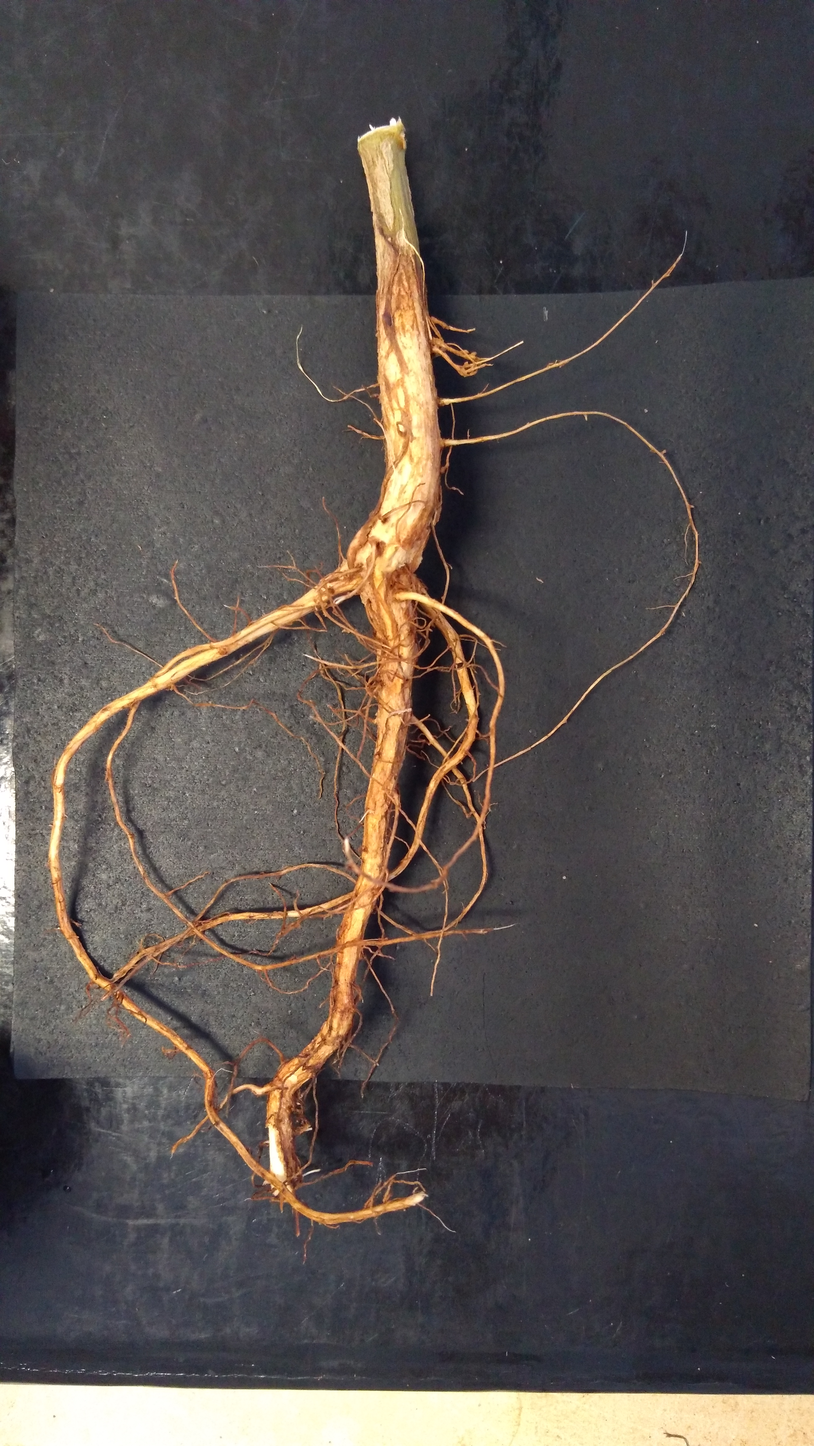nodule: (430, 337, 448, 358), (292, 1088, 305, 1115), (367, 676, 383, 693), (297, 1113, 312, 1131), (460, 363, 478, 377), (439, 466, 447, 475), (341, 628, 351, 634), (170, 685, 174, 691), (323, 602, 327, 607), (375, 712, 377, 716)
